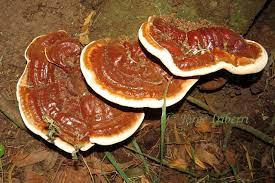Ganoderma - Fruit Body: (14, 30, 79, 161), (137, 14, 270, 75), (81, 37, 136, 107), (89, 110, 149, 145)
